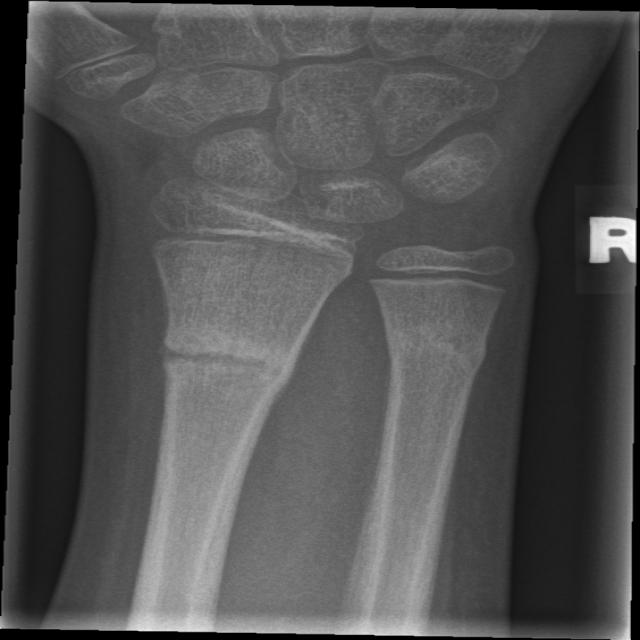radius fracture: (123, 302, 323, 480)
